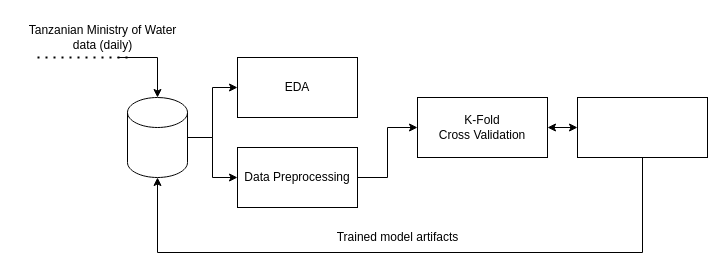
The diagram is 725 pixels wide and 278 high, and some of its shapes have lost their labels. The centre of each missing label's shape, as x and y in pixels:
"HDFS" goes at [157,137].
"Model Training and Validation" goes at [642,127].
